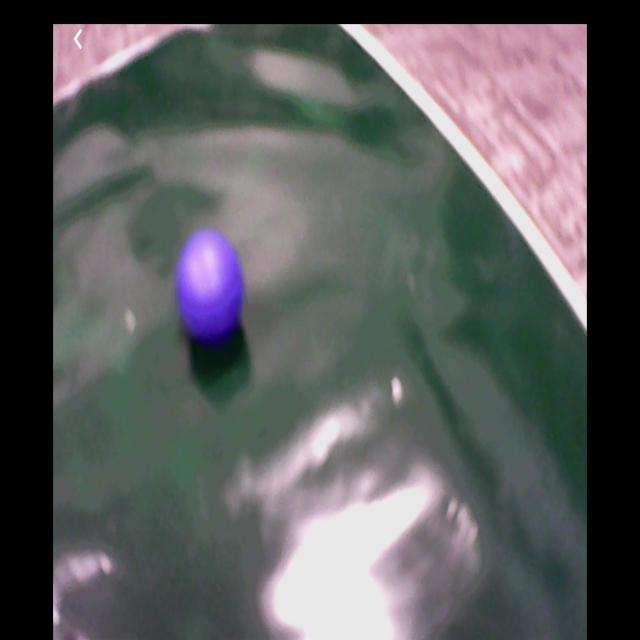ball: (178, 235, 245, 342)
